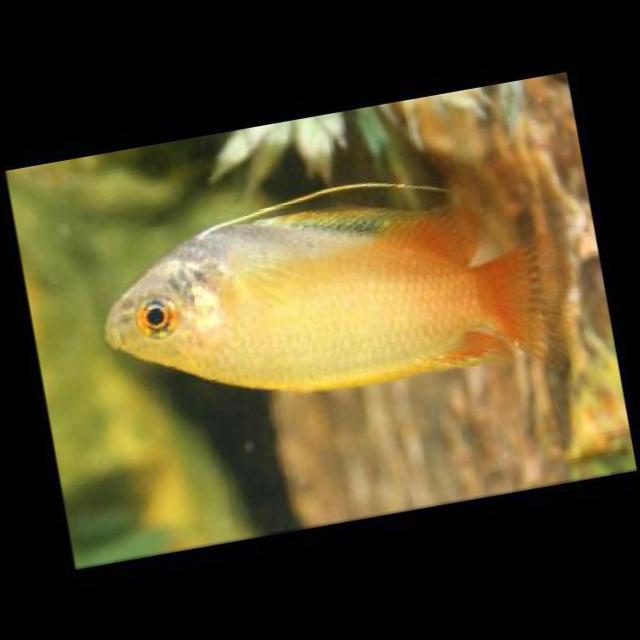Gourami: (85, 171, 576, 447)
